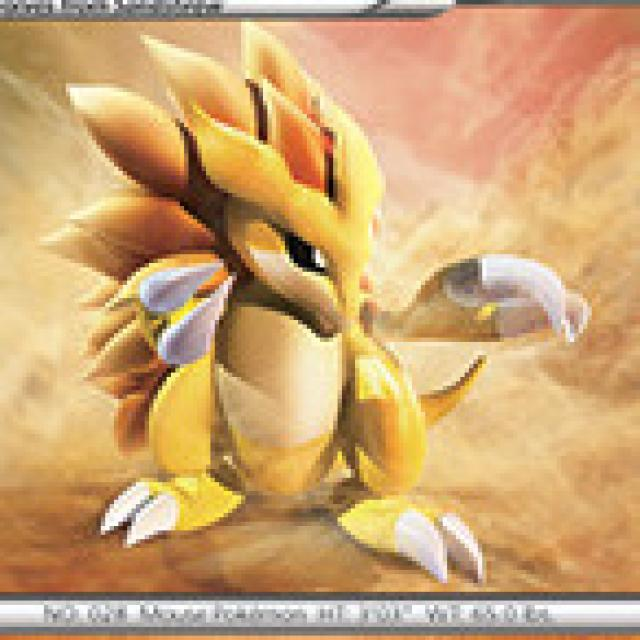Sandslash: (88, 41, 481, 576)
